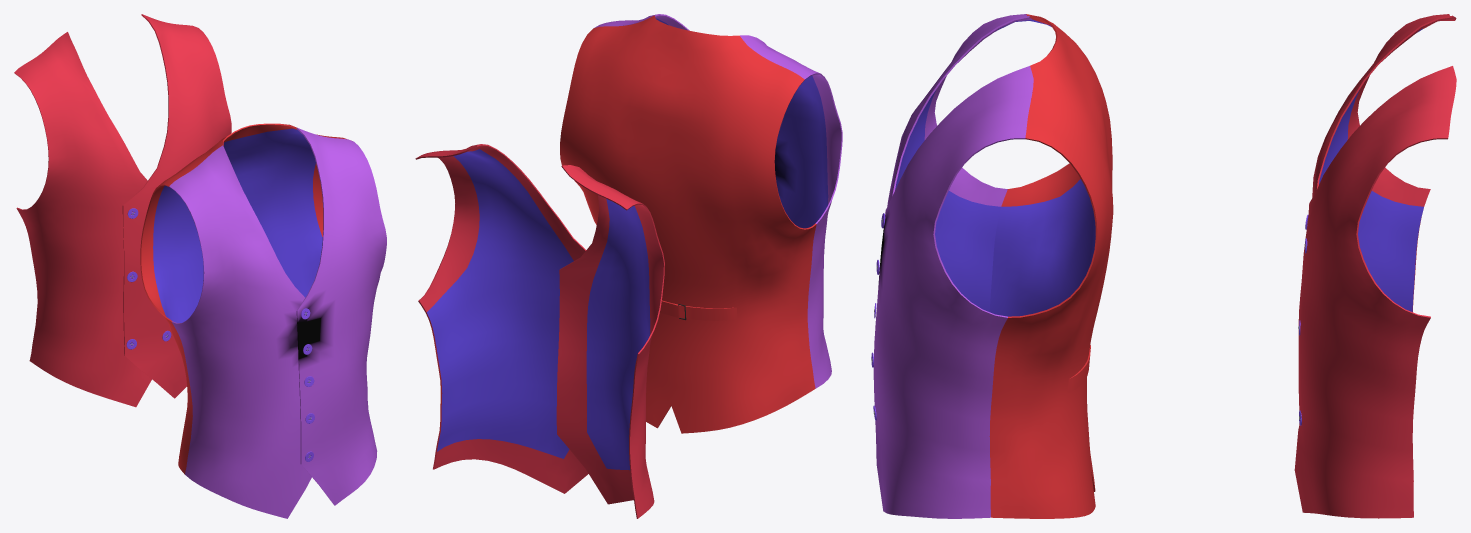
Rendered from Waistcoat_04.fbx.
The picture shows the model from 3 angles, left to right: view 1: azimuth 30°, elevation 25°; view 2: azimuth 150°, elevation 25°; view 3: azimuth 270°, elevation 25°; orthographic projection. The views are drawn at different scales.
Visible parts, largest first — view 1: Front SB, Front_DB, Fixed002; view 2: Fixed002, Front_DB, Front SB, Fixed001; view 3: Front_DB, Front SB, Fixed002.
Part boxes in pixels (x1=…): Front SB: x1=169, y1=128, x2=386, y2=518; Front_DB: x1=14, y1=14, x2=231, y2=407; Fixed002: x1=140, y1=123, x2=346, y2=474; Fixed002: x1=560, y1=15, x2=816, y2=433; Front_DB: x1=415, y1=144, x2=664, y2=518; Front SB: x1=594, y1=14, x2=842, y2=388; Fixed001: x1=660, y1=300, x2=737, y2=320; Front_DB: x1=1294, y1=14, x2=1456, y2=518; Front SB: x1=873, y1=14, x2=1033, y2=518; Fixed002: x1=989, y1=14, x2=1113, y2=518.
Size of the model in its own units: 37.51 by 60.89 by 69.21.
